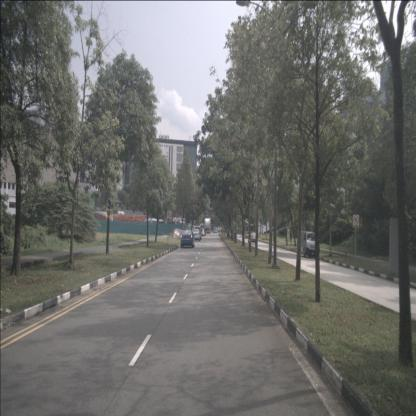human-pedestrian-adult: (289, 229, 292, 244)
vehicle-car: (297, 231, 318, 259), (180, 230, 195, 248), (193, 226, 202, 239), (248, 232, 257, 244), (192, 229, 200, 241), (199, 228, 205, 236), (245, 231, 250, 239)
vehicle-truck: (204, 218, 211, 234)
